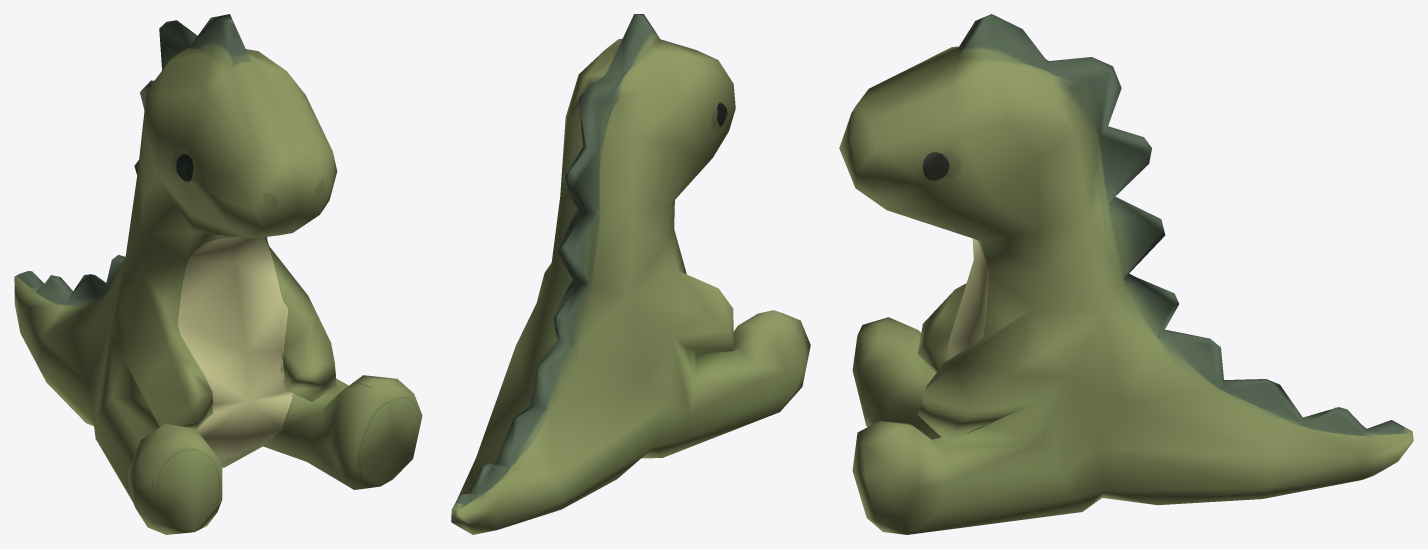
The model's file is plush_dino.fbx.
3 views of the same model, side by side, from view 1: azimuth 30°, elevation 25°; view 2: azimuth 150°, elevation 25°; view 3: azimuth 270°, elevation 25° (orthographic). The views are drawn at different scales.
Visible parts, largest first — view 1: Mesh_0; view 2: Mesh_0; view 3: Mesh_0.
Part boxes in pixels (<box>): Mesh_0: <box>14,14,422,534</box>; Mesh_0: <box>451,14,810,534</box>; Mesh_0: <box>839,14,1413,534</box>.
Bounding box in the file's own units: 56.01 × 85.89 × 96.92.
1 material, 1 textured.
